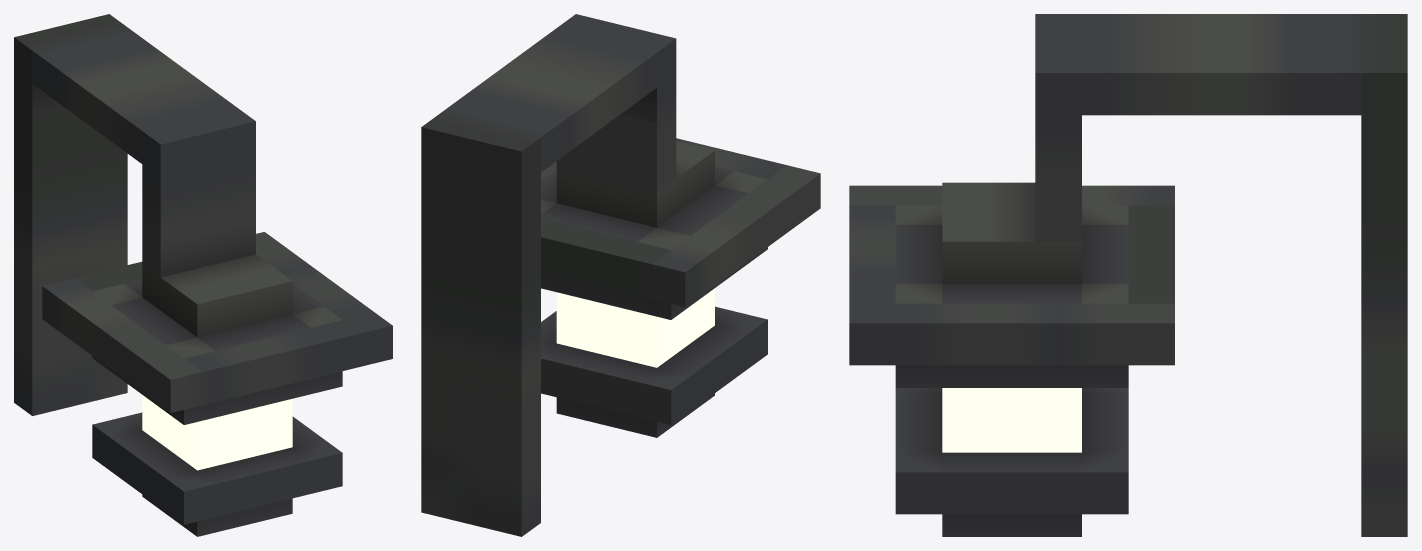
The picture shows the model from 3 angles, left to right: view 1: azimuth 30°, elevation 25°; view 2: azimuth 150°, elevation 25°; view 3: azimuth 270°, elevation 25°; orthographic projection. The views are drawn at different scales.
Parts seen in each view (by area): view 1: Lamp_1; view 2: Lamp_1; view 3: Lamp_1.
Part boxes in pixels (bbox=[...]): Lamp_1: bbox=[14, 14, 392, 536]; Lamp_1: bbox=[421, 14, 820, 536]; Lamp_1: bbox=[849, 14, 1407, 536].
Bounding box in the file's own units: 0.35 × 0.55 × 0.6.
2 materials, 2 textured.
